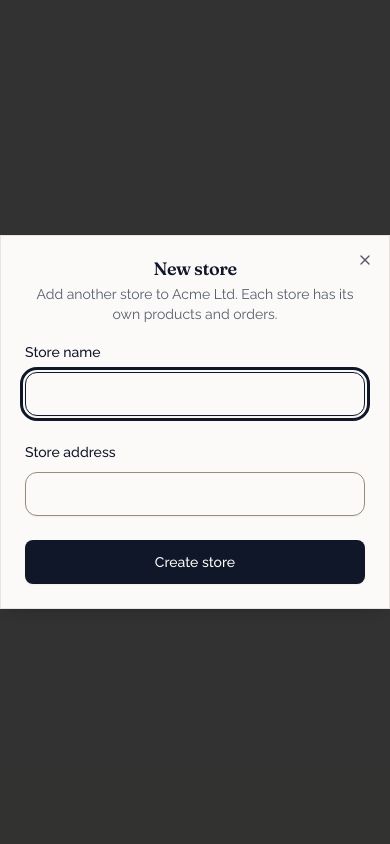
Scenario: NewStoreDialog › shows the provisioning progress while the new store is set up
In the field labelled "Store name": [195, 394] box [25,372,365,416], type "Second Shop"
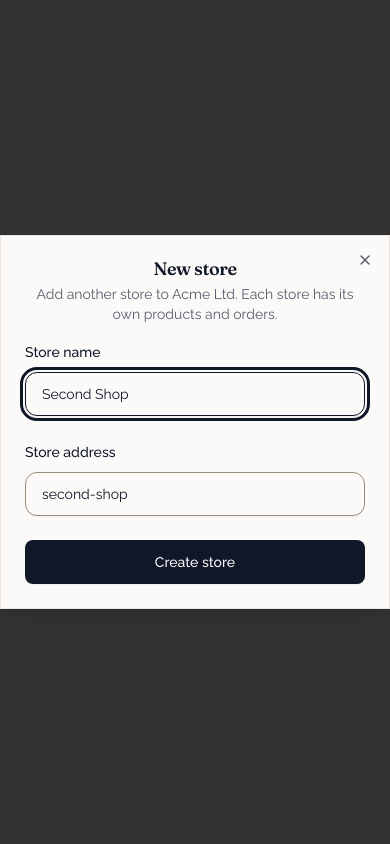
Click the button "Create store": [195, 562] box [25,540,365,584]
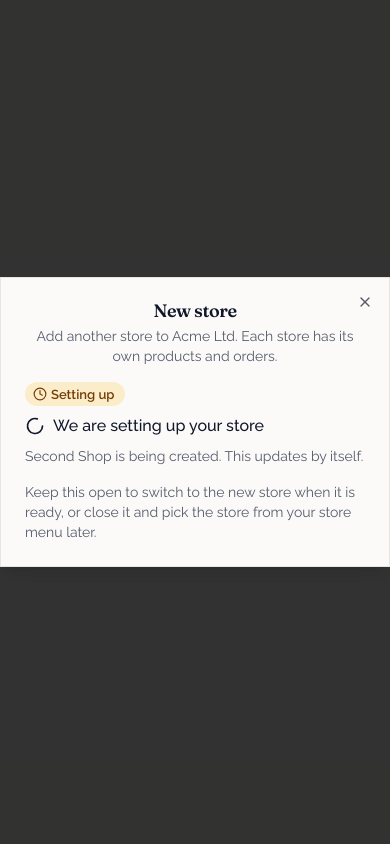
Result: the text "We are setting up your store" is shown at [53,414,264,438]
Result: the label labelled "Store name" is gone
